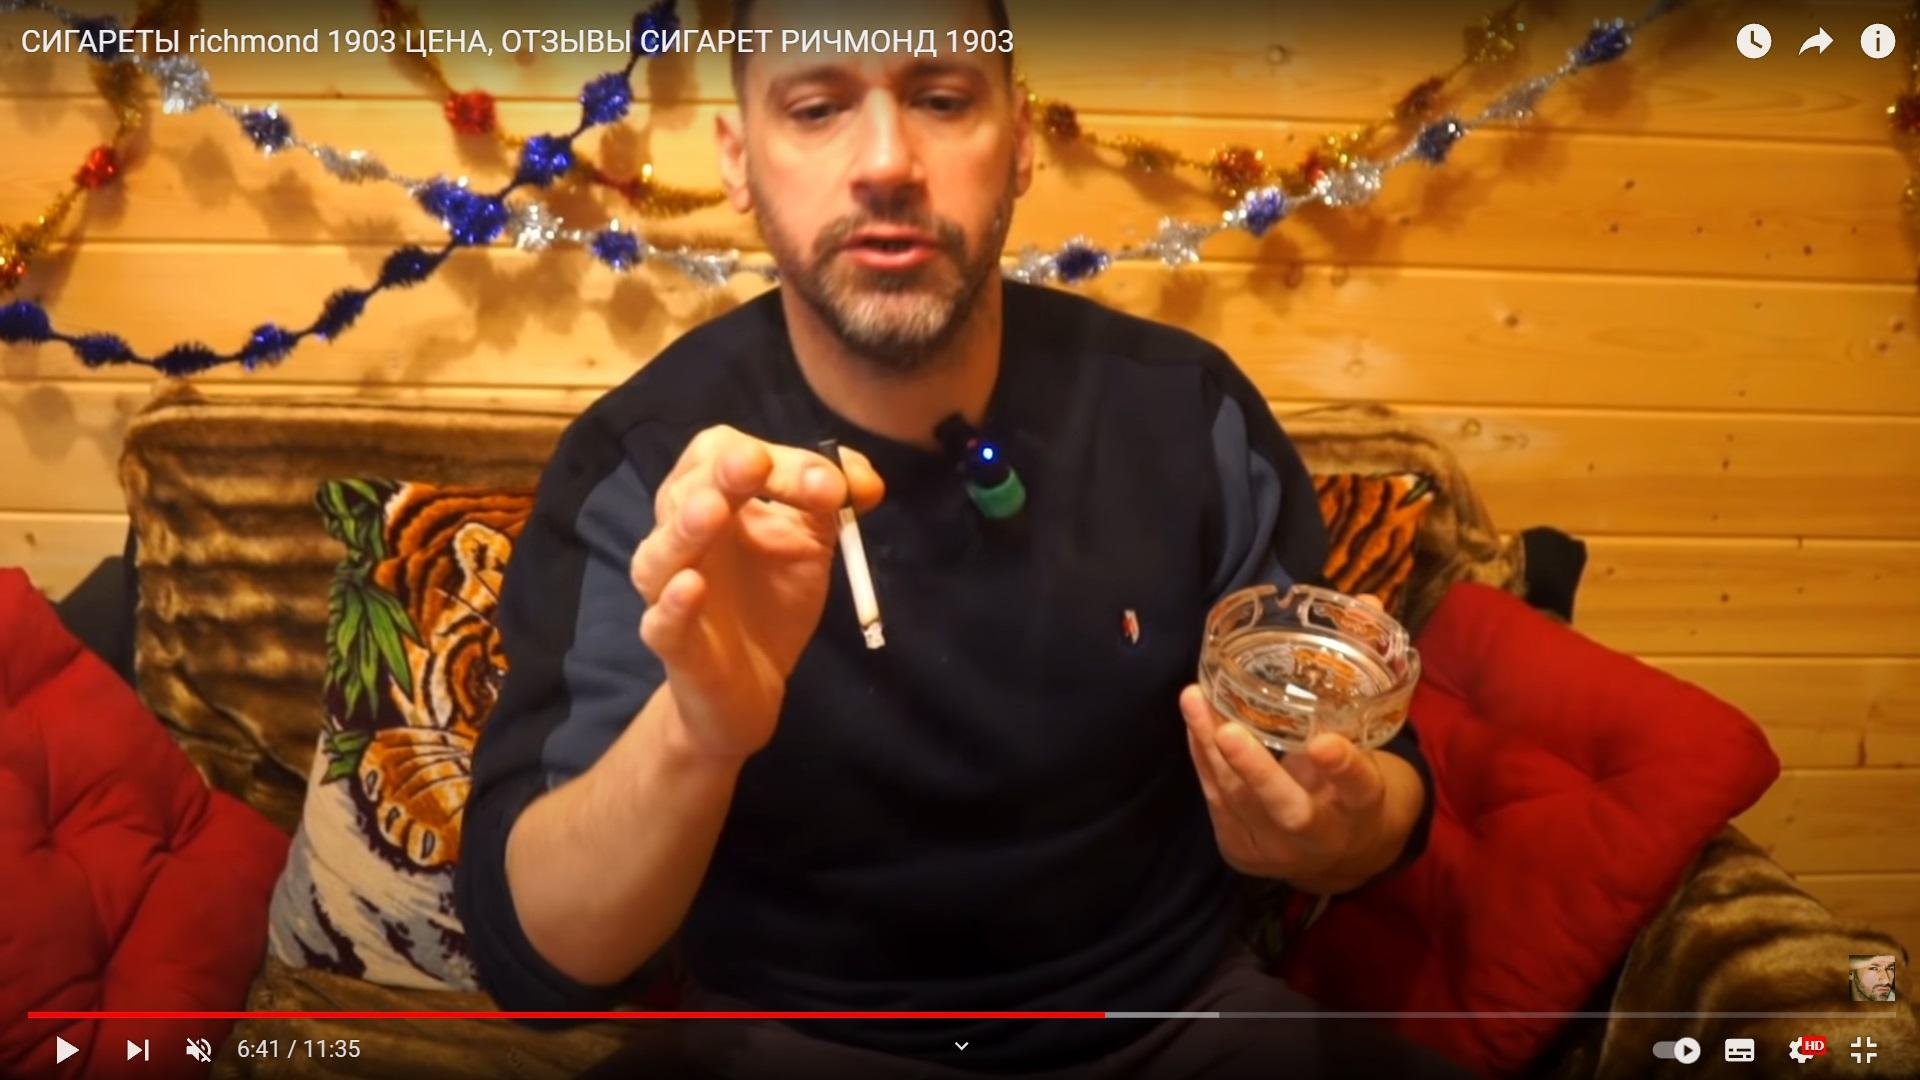cigarette: (815, 439, 886, 649)
